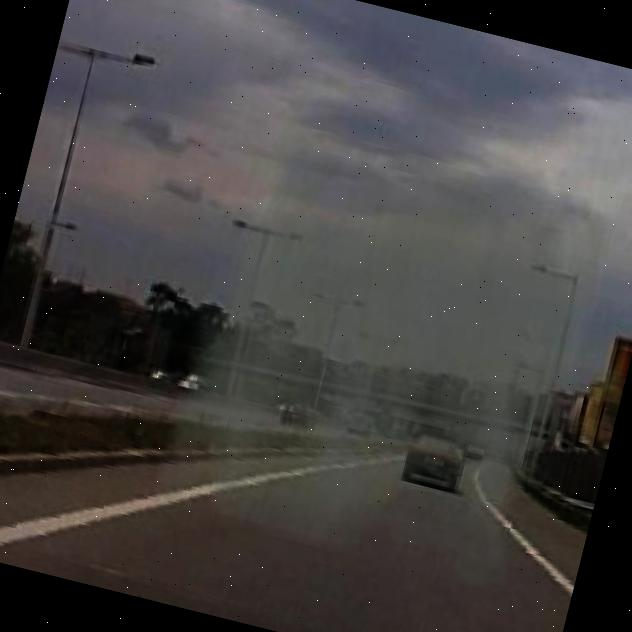smoke: (143, 100, 619, 591)
